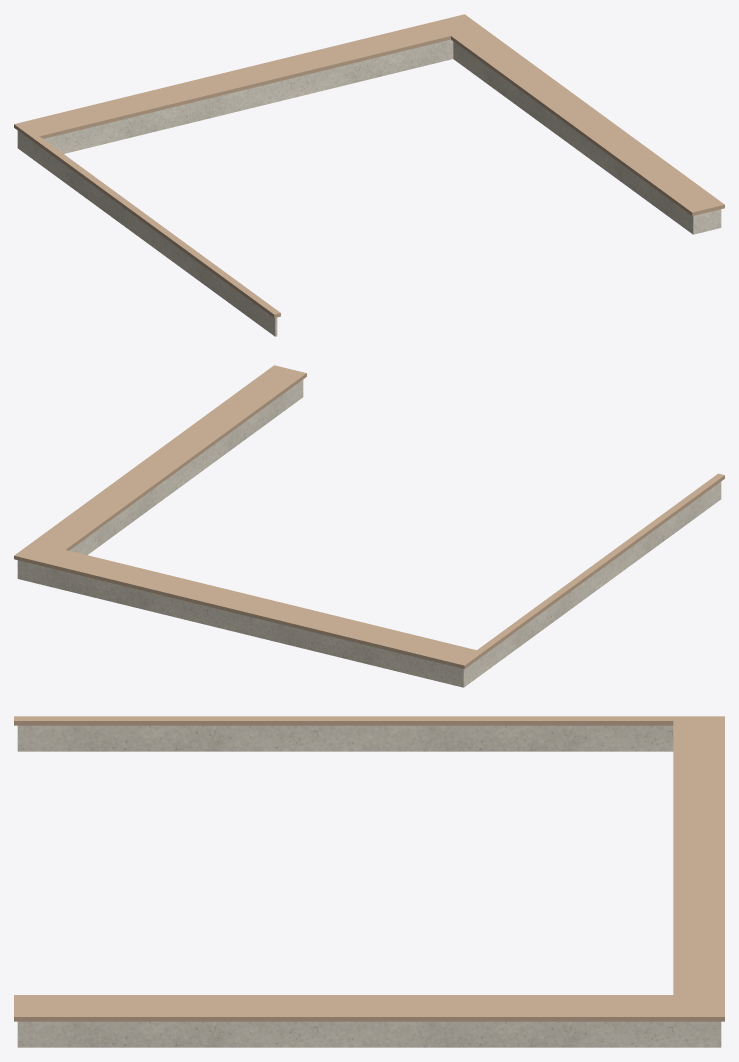
The model's file is stair_core_slab_192_168_29.glb.
The picture shows the model from 3 angles, top to bottom: view 1: azimuth 30°, elevation 25°; view 2: azimuth 150°, elevation 25°; view 3: azimuth 270°, elevation 25°; orthographic projection. The views are drawn at different scales.
Parts seen in each view (by area): view 1: stair_core_slab_192_168_29_floor, stair_core_slab_192_168_29_plaster; view 2: stair_core_slab_192_168_29_floor, stair_core_slab_192_168_29_plaster; view 3: stair_core_slab_192_168_29_floor, stair_core_slab_192_168_29_plaster.
Boxes of the visible parts, x1=… form: stair_core_slab_192_168_29_floor: x1=14, y1=14, x2=724, y2=318; stair_core_slab_192_168_29_plaster: x1=17, y1=39, x2=721, y2=336; stair_core_slab_192_168_29_floor: x1=14, y1=365, x2=724, y2=669; stair_core_slab_192_168_29_plaster: x1=17, y1=379, x2=721, y2=687; stair_core_slab_192_168_29_floor: x1=14, y1=716, x2=724, y2=1021; stair_core_slab_192_168_29_plaster: x1=17, y1=725, x2=721, y2=1047.
Bounding box in the file's own units: 4 × 0.2 × 4.
Materials: 2 (1 with a texture image).
